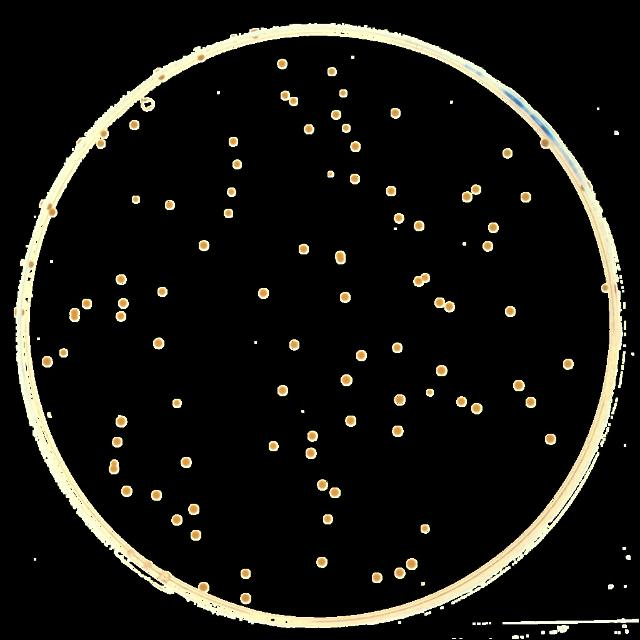colony: (414, 274, 430, 286), (109, 458, 119, 474), (394, 394, 406, 406), (116, 416, 128, 428), (70, 308, 80, 322), (407, 558, 418, 570), (317, 478, 328, 489), (335, 252, 345, 264), (444, 302, 456, 312), (342, 374, 352, 386), (346, 415, 356, 427), (189, 504, 199, 516), (316, 557, 328, 567), (240, 594, 252, 604), (198, 582, 210, 592), (372, 572, 382, 584), (290, 339, 300, 351), (154, 338, 164, 350), (43, 356, 53, 368), (514, 381, 524, 392), (526, 397, 536, 408), (357, 351, 367, 362), (392, 426, 403, 436), (181, 457, 191, 468), (112, 437, 122, 448), (277, 59, 287, 69), (391, 108, 401, 118), (521, 192, 531, 202), (462, 192, 472, 202), (489, 223, 499, 233), (483, 241, 493, 251), (414, 221, 424, 231), (394, 214, 404, 224), (350, 174, 360, 184), (350, 141, 360, 151), (304, 124, 314, 134), (165, 200, 175, 210), (199, 241, 209, 251), (340, 292, 350, 302), (259, 288, 269, 298), (435, 298, 445, 308), (505, 307, 515, 317), (564, 359, 574, 369), (437, 366, 447, 376), (457, 396, 467, 406), (472, 404, 482, 414), (392, 343, 402, 353), (308, 431, 318, 441), (306, 448, 316, 458), (330, 488, 340, 498), (278, 386, 288, 396), (122, 486, 132, 496), (152, 490, 162, 500), (172, 515, 182, 525), (191, 530, 201, 540), (395, 568, 405, 578), (118, 298, 128, 308), (116, 274, 126, 284), (546, 434, 556, 444), (158, 73, 168, 83), (332, 110, 341, 120), (503, 148, 512, 158), (472, 185, 481, 195), (386, 187, 396, 196), (323, 514, 332, 524), (82, 298, 91, 308), (281, 90, 289, 100), (228, 138, 238, 146), (233, 159, 241, 169), (224, 208, 232, 218), (300, 244, 308, 254), (173, 398, 181, 408), (241, 570, 251, 578), (420, 525, 430, 533), (117, 312, 125, 322), (130, 120, 138, 130), (541, 138, 549, 148), (328, 68, 337, 76), (290, 96, 298, 105), (270, 442, 278, 451), (342, 124, 350, 132), (228, 188, 236, 196), (159, 288, 167, 296), (97, 140, 105, 148), (426, 389, 434, 396), (61, 349, 68, 357), (132, 195, 140, 202), (198, 54, 205, 61), (340, 90, 348, 96), (602, 284, 608, 292), (50, 208, 56, 216), (328, 171, 334, 177), (101, 130, 107, 136), (28, 262, 34, 268), (46, 204, 52, 210), (22, 308, 24, 316)
